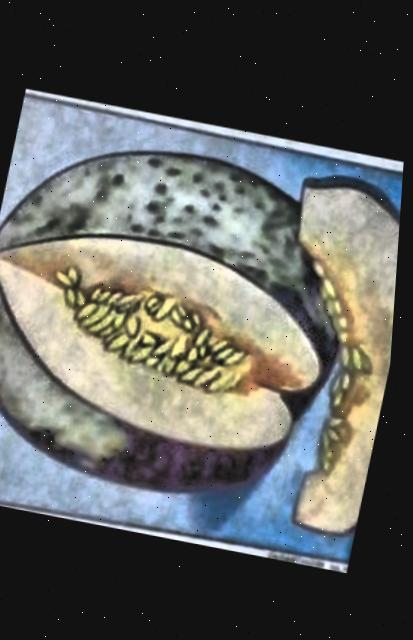El Melon: (0, 95, 405, 558)
